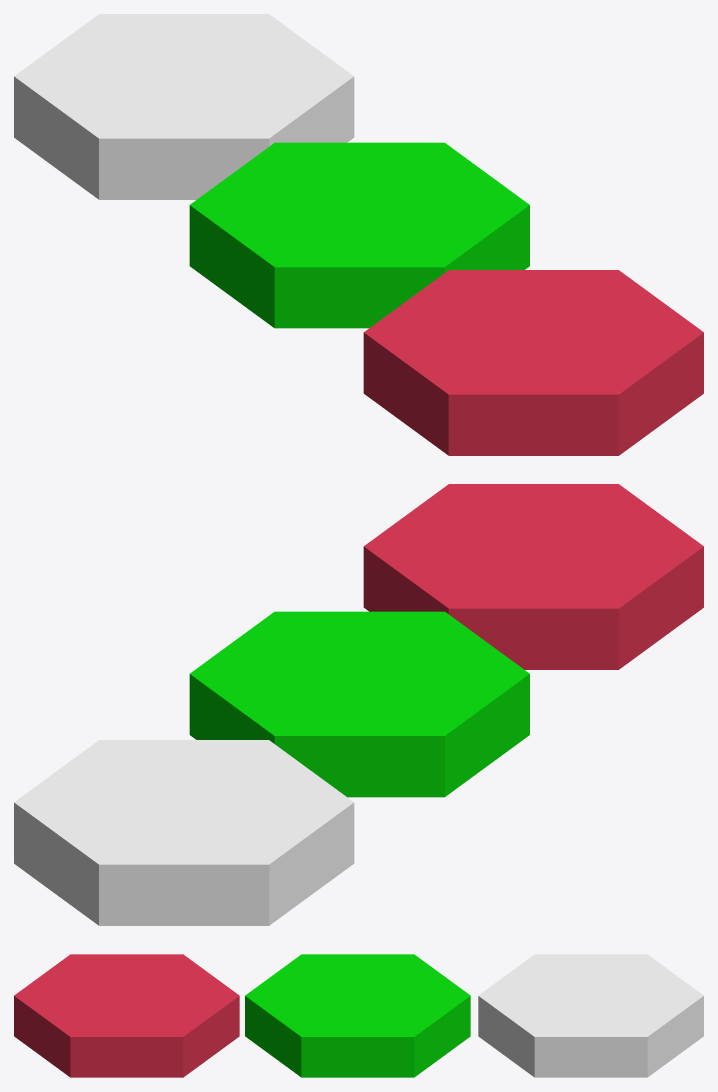
The model's file is Cylinders.fbx.
3 views of the same model, one above another, from view 1: azimuth 30°, elevation 25°; view 2: azimuth 150°, elevation 25°; view 3: azimuth 270°, elevation 25° (orthographic). The views are drawn at different scales.
Parts seen in each view (by area): view 1: Cylinder, CylinderWhite, CylinderGreen; view 2: CylinderWhite, CylinderGreen, Cylinder; view 3: Cylinder, CylinderGreen, CylinderWhite.
Boxes of the visible parts, box(x1,y1,x2,y2) form: Cylinder: box(363, 270, 703, 455); CylinderWhite: box(14, 14, 354, 199); CylinderGreen: box(189, 142, 529, 328); CylinderWhite: box(14, 740, 354, 925); CylinderGreen: box(189, 611, 529, 797); Cylinder: box(363, 484, 703, 669); Cylinder: box(14, 954, 239, 1077); CylinderGreen: box(245, 954, 470, 1077); CylinderWhite: box(478, 954, 703, 1077).
Size of the model in its own units: 173 by 39.72 by 611.
